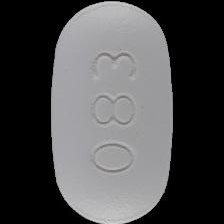53808-1000: (0, 0, 224, 224)
